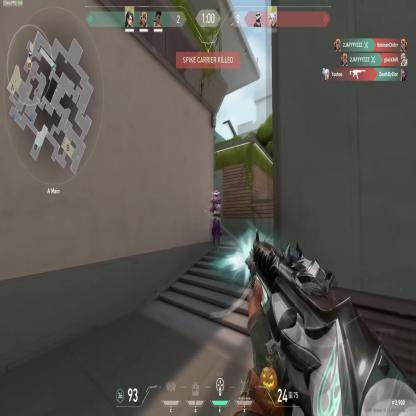enemy: (207, 188, 222, 253)
enemy_head: (213, 190, 220, 200)
